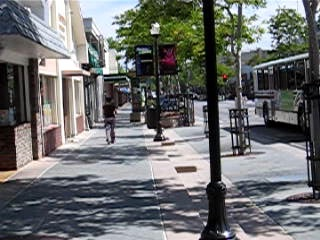person: (103, 94, 119, 145), (102, 94, 118, 145), (104, 94, 120, 145), (103, 93, 119, 144), (103, 95, 119, 146)
target_negative: (82, 1, 223, 237), (30, 72, 211, 207), (174, 62, 291, 115), (34, 223, 273, 238), (296, 93, 304, 171), (128, 205, 152, 229)
